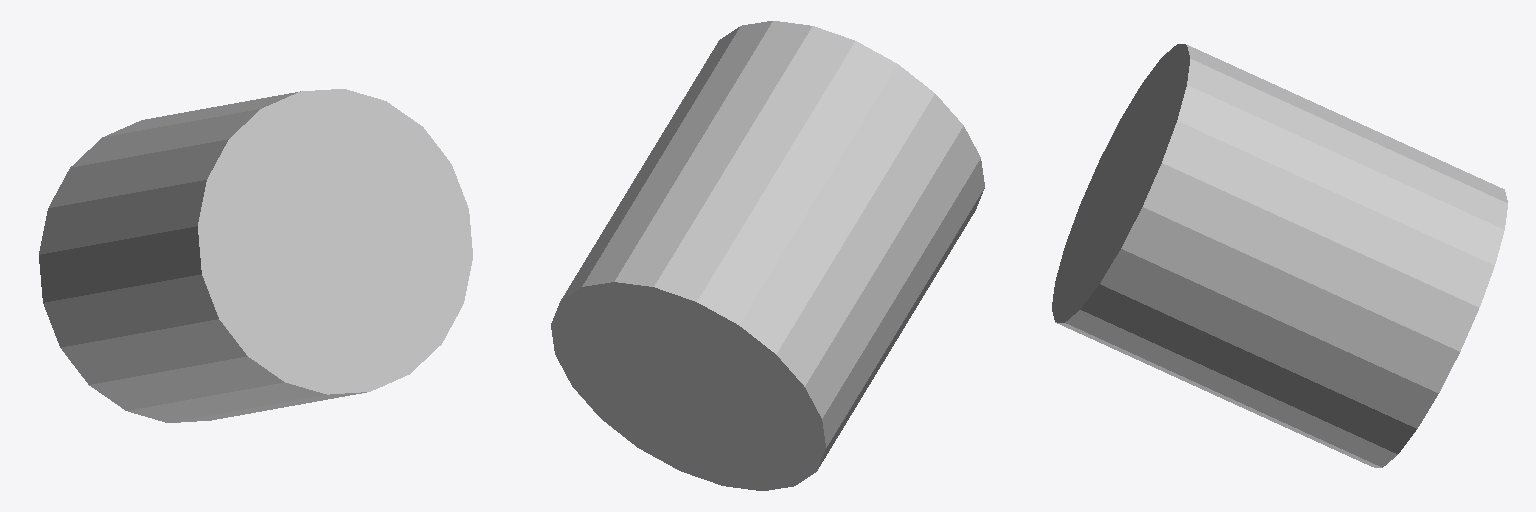
File: Resaltado_Supratroclear_D.obj
The picture shows the model from 3 angles: view 1: azimuth 30°, elevation 25°; view 2: azimuth 150°, elevation 25°; view 3: azimuth 270°, elevation 25°; orthographic projection.
Parts seen in each view (by area): view 1: polySurface5 Marcadores1; view 2: polySurface5 Marcadores1; view 3: polySurface5 Marcadores1.
Boxes of the visible parts, <box> form: polySurface5 Marcadores1: <box>39,89,472,422</box>; polySurface5 Marcadores1: <box>551,21,984,490</box>; polySurface5 Marcadores1: <box>1052,44,1507,467</box>.
Size of the model in its own units: 0.0274 by 0.0387 by 0.0406.